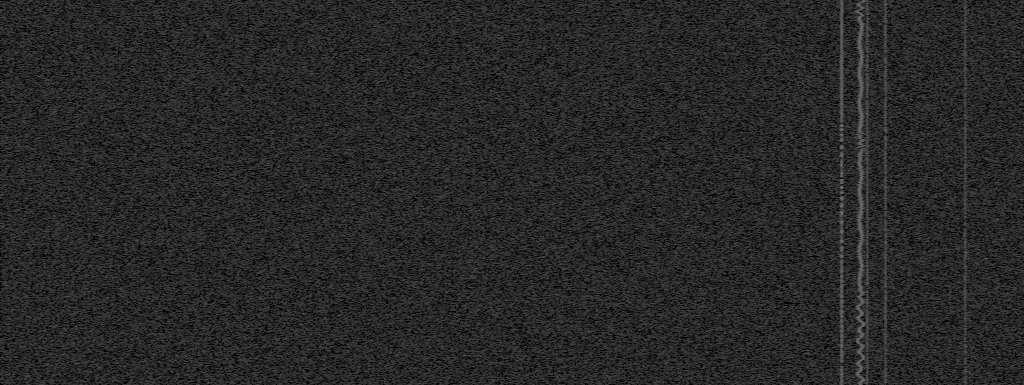wv_am: (883, 0, 888, 355), (839, 0, 845, 189), (839, 245, 845, 363), (963, 92, 968, 220), (963, 228, 968, 355), (963, 0, 968, 91), (839, 209, 845, 244), (963, 357, 968, 385), (883, 358, 888, 385), (839, 190, 845, 208), (839, 366, 844, 385), (963, 221, 968, 227)
wv_cw: (865, 0, 870, 385)
wv_wbfm: (854, 0, 867, 385)
